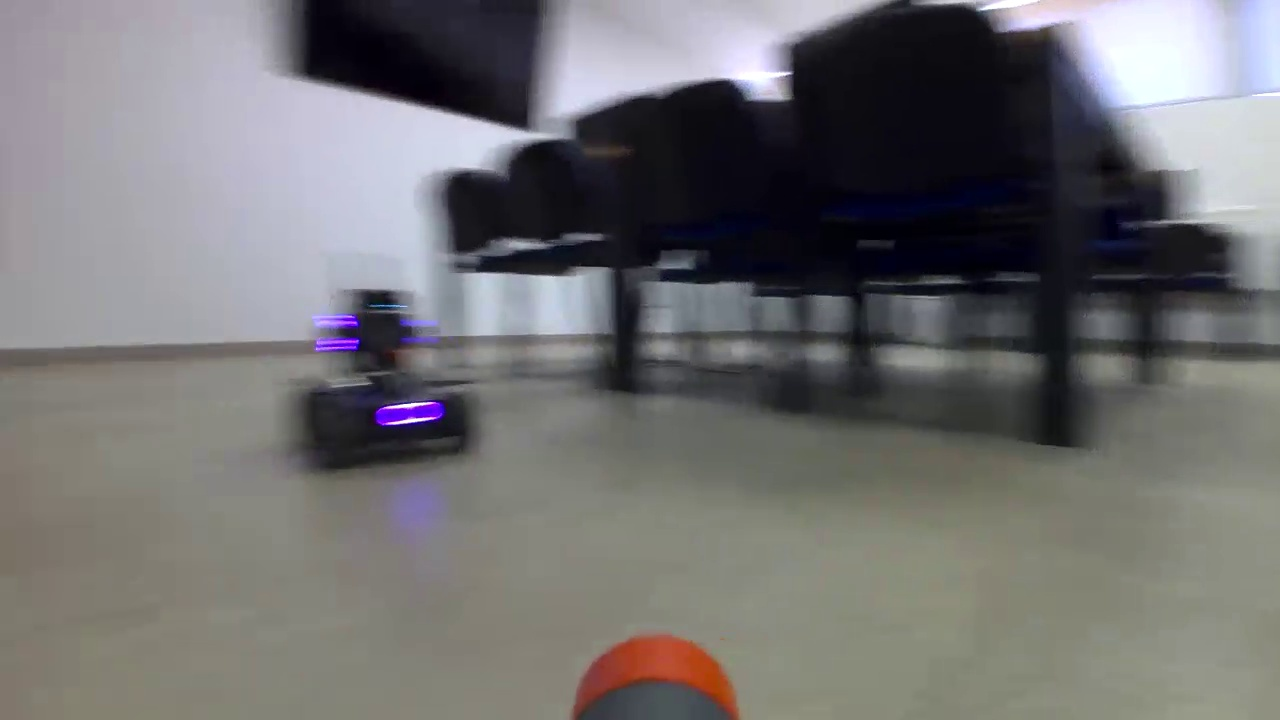robot: (298, 300, 470, 470)
